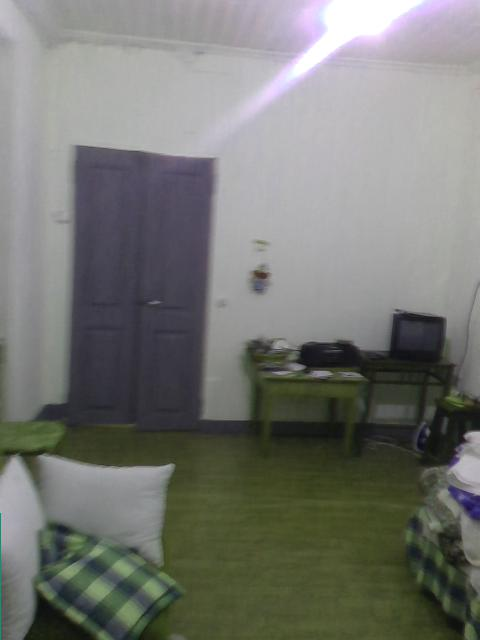closed_door: (63, 143, 216, 433)
